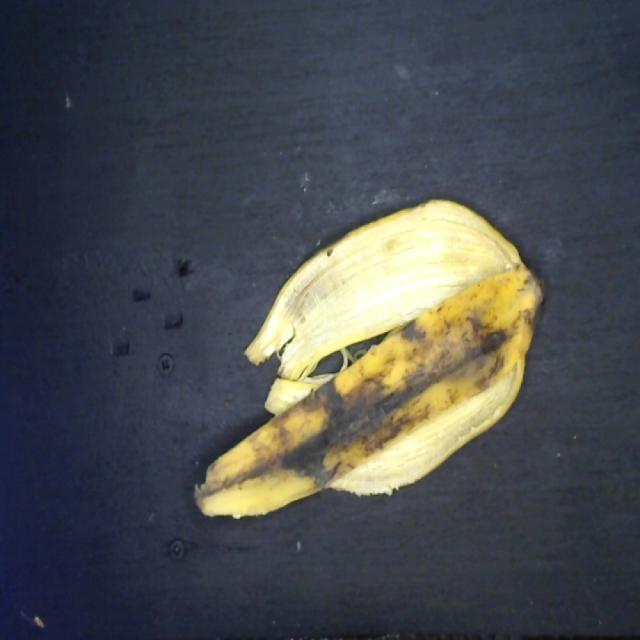biodegradable: (187, 196, 547, 514)
